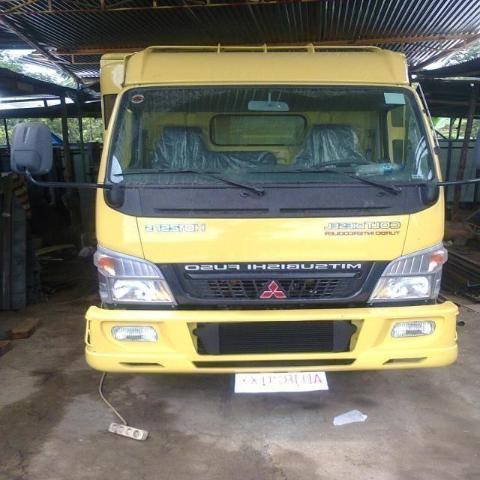van: (14, 44, 466, 376)
